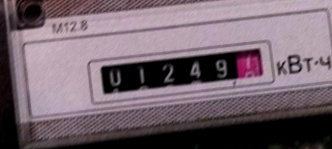0: (106, 65, 122, 87)
1: (133, 62, 147, 85)
2: (158, 60, 176, 84)
4: (187, 57, 202, 78)
7: (240, 48, 255, 69)
9: (213, 56, 228, 78)
screen: (83, 35, 278, 106)
